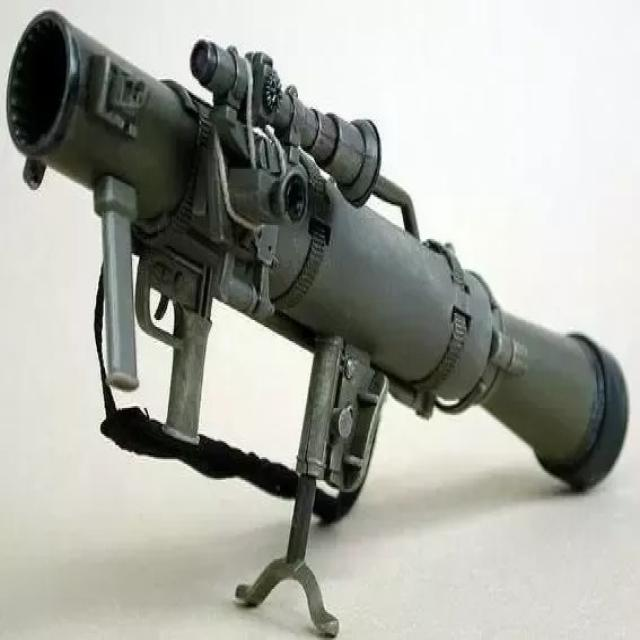bazooka: (2, 3, 634, 638)
